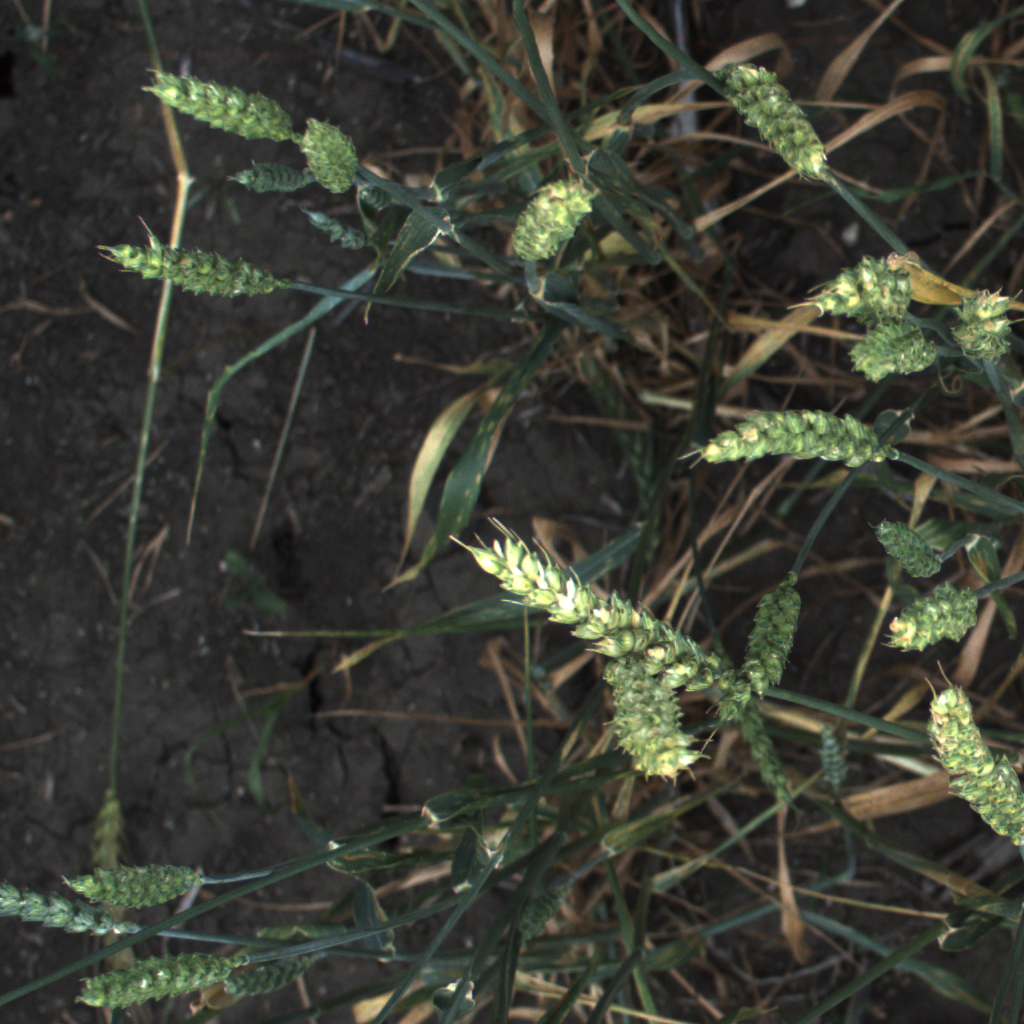wheat_head: (468, 522, 726, 710), (714, 559, 865, 806), (906, 660, 1024, 867), (94, 218, 301, 318), (685, 396, 906, 482), (134, 54, 309, 155), (717, 54, 840, 197), (67, 935, 262, 1015), (603, 648, 706, 784), (0, 871, 163, 953), (54, 838, 215, 917), (502, 156, 605, 275), (799, 237, 923, 329), (871, 573, 999, 662), (729, 690, 811, 819), (217, 935, 350, 1005), (857, 509, 960, 589), (840, 312, 945, 383), (294, 107, 371, 202), (944, 283, 1021, 370), (220, 155, 323, 197), (519, 886, 567, 933)
